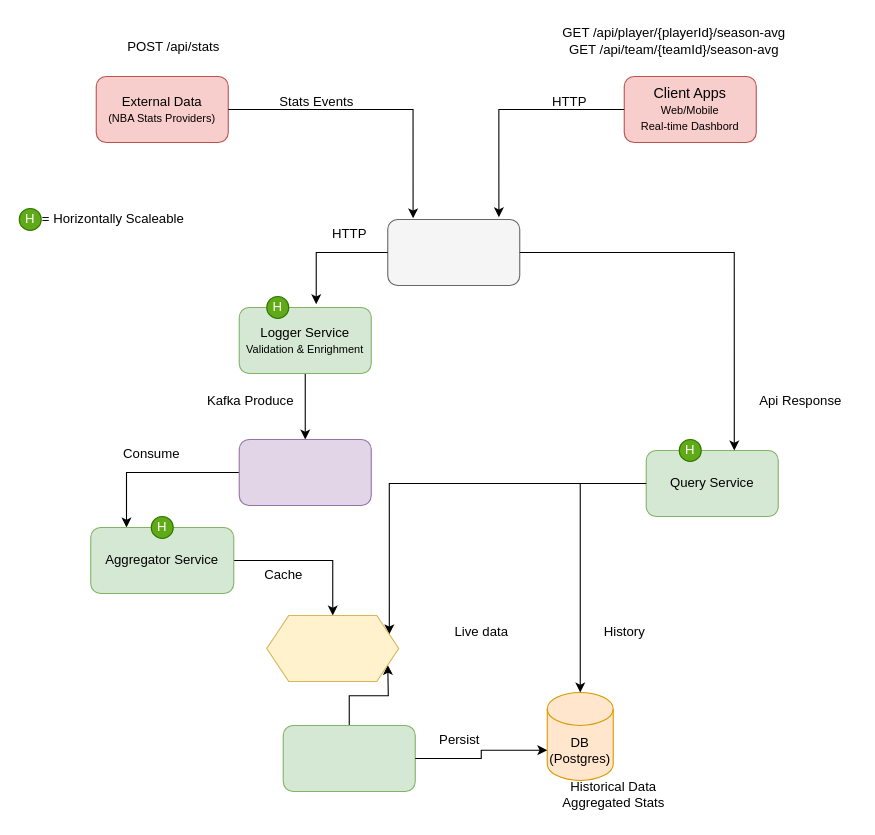
Some shapes in this 875 by 835 pixel diagram are drawn without their labels. Each missing label, with the centre of its shape:
API Gateway Rate Limiting: [453,251]
Distributed Cache (Redis): [332,647]
Flusher Service Game End Detection: [348,757]
Message Queue (Kafka): [304,471]
